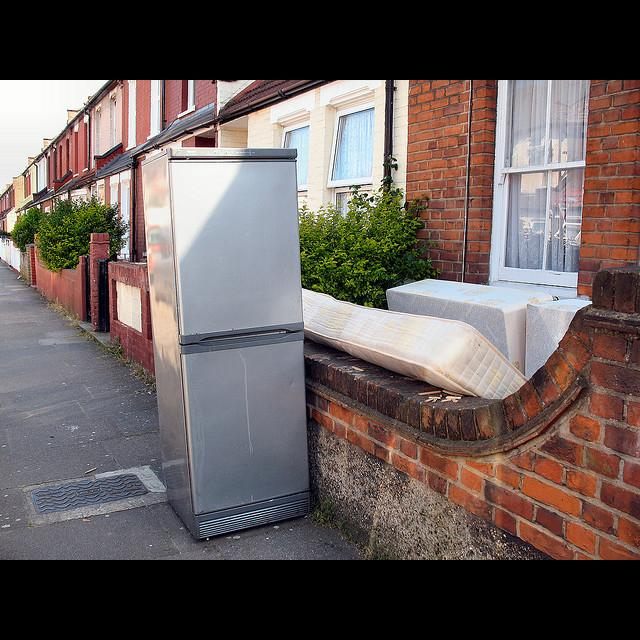Refrigerator: (139, 148, 315, 543)
